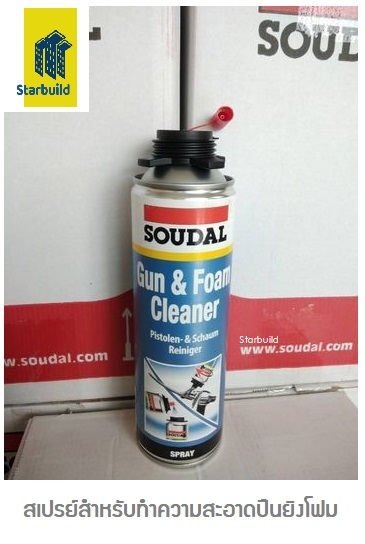Aerosol_cans: (127, 127, 237, 469)
